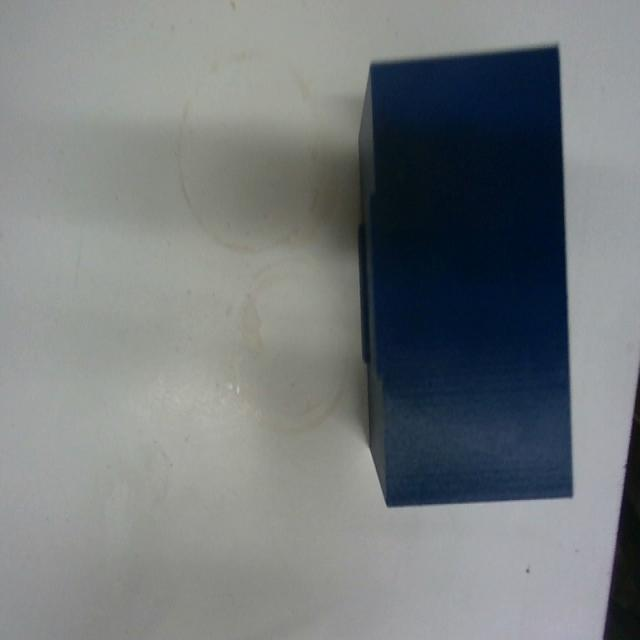Blue Cuboid: (354, 40, 575, 508)
